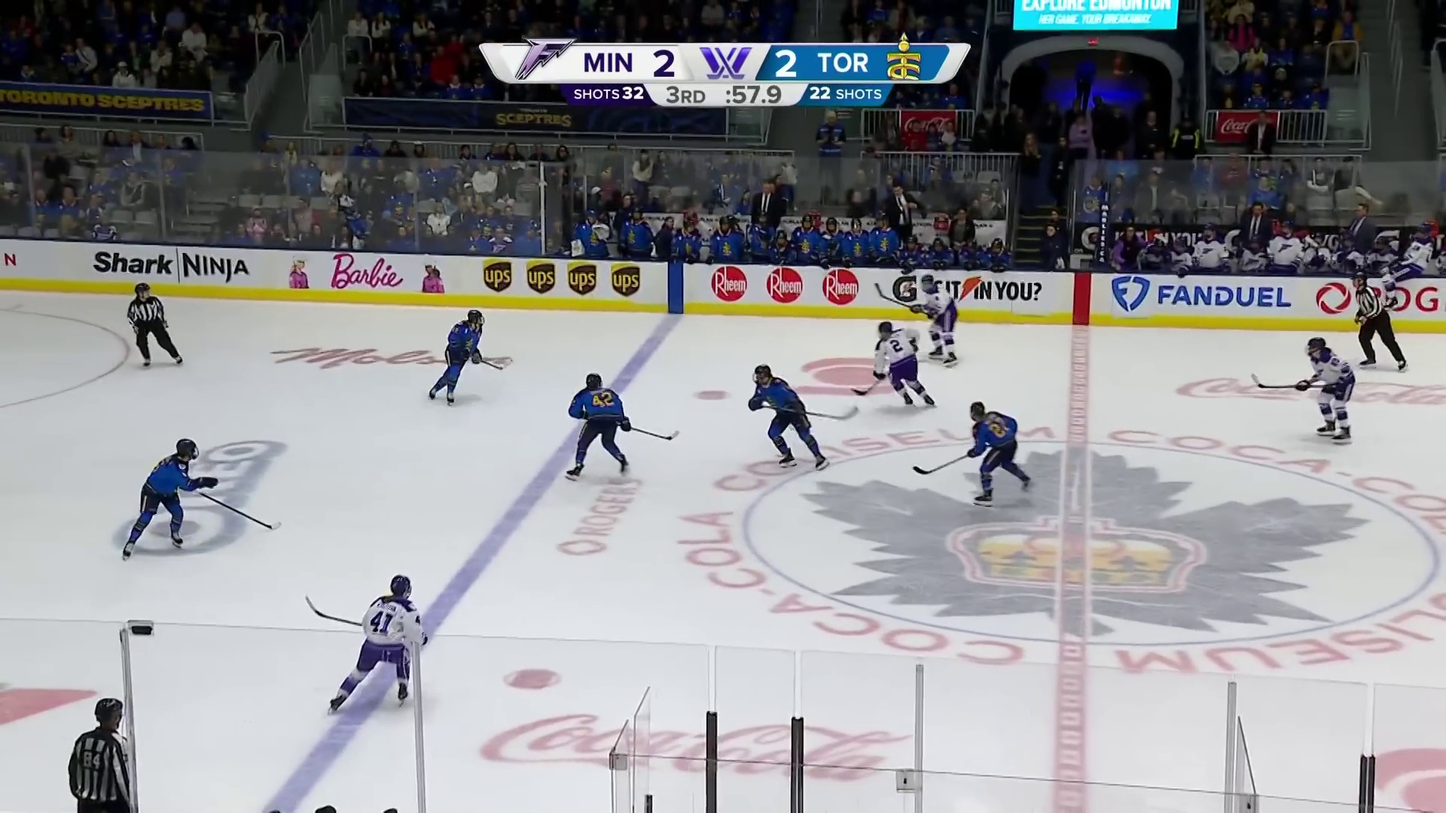player: (328, 572, 431, 710), (121, 436, 220, 558), (746, 361, 831, 469), (564, 371, 633, 480), (1290, 336, 1356, 444), (963, 400, 1030, 505), (427, 306, 487, 406), (871, 320, 939, 407), (908, 273, 961, 368)
referee: (1350, 269, 1411, 373), (126, 280, 184, 366)
